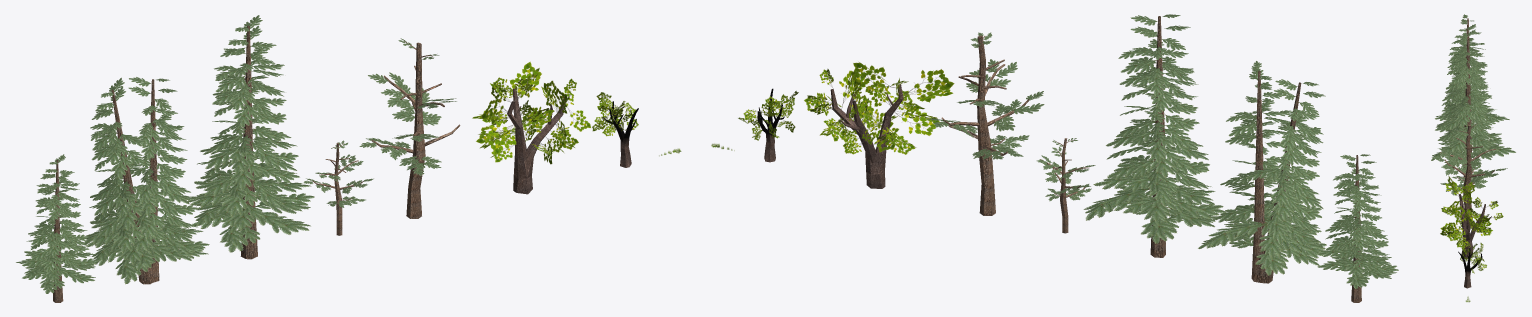
Rendered from trees.glb.
3 renders of one model, left to right at view 1: azimuth 30°, elevation 25°; view 2: azimuth 150°, elevation 25°; view 3: azimuth 270°, elevation 25°, orthographic. The views are drawn at different scales.
Visible parts, largest first — view 1: Cylinder.003_4, Cylinder_2, Cylinder.002_5, Cylinder.001_3, tree large 1_0, Plane.016_6, tree small 1_1; view 2: Cylinder_2, Cylinder.003_4, Cylinder.002_5, Cylinder.001_3, tree large 1_0, Plane.016_6, tree small 1_1; view 3: Cylinder_2, Cylinder.002_5, tree large 1_0, Cylinder.003_4, Plane.016_6, Cylinder.001_3, tree small 1_1.
Part boxes in pixels (left/top/right/bottom): Cylinder.003_4: left=82, top=77, right=209, bottom=284; Cylinder_2: left=180, top=15, right=314, bottom=259; Cylinder.002_5: left=472, top=61, right=590, bottom=194; Cylinder.001_3: left=16, top=154, right=98, bottom=302; tree large 1_0: left=359, top=38, right=460, bottom=218; Plane.016_6: left=592, top=92, right=638, bottom=167; tree small 1_1: left=303, top=140, right=373, bottom=235; Cylinder_2: left=1083, top=14, right=1225, bottom=257; Cylinder.003_4: left=1198, top=61, right=1326, bottom=283; Cylinder.002_5: left=804, top=62, right=954, bottom=188; Cylinder.001_3: left=1317, top=154, right=1398, bottom=302; tree large 1_0: left=927, top=32, right=1044, bottom=215; Plane.016_6: left=738, top=88, right=798, bottom=162; tree small 1_1: left=1036, top=138, right=1095, bottom=233; Cylinder_2: left=1431, top=33, right=1515, bottom=176; Cylinder.002_5: left=1440, top=176, right=1503, bottom=258; tree large 1_0: left=1432, top=120, right=1507, bottom=226; Cylinder.003_4: left=1435, top=14, right=1509, bottom=138; Plane.016_6: left=1458, top=239, right=1486, bottom=288; Cylinder.001_3: left=1445, top=32, right=1488, bottom=107; tree small 1_1: left=1452, top=147, right=1480, bottom=189.
Bounding box in the file's own units: 48.48 × 16.35 × 9.44.
Materials: 5 (5 with a texture image).
